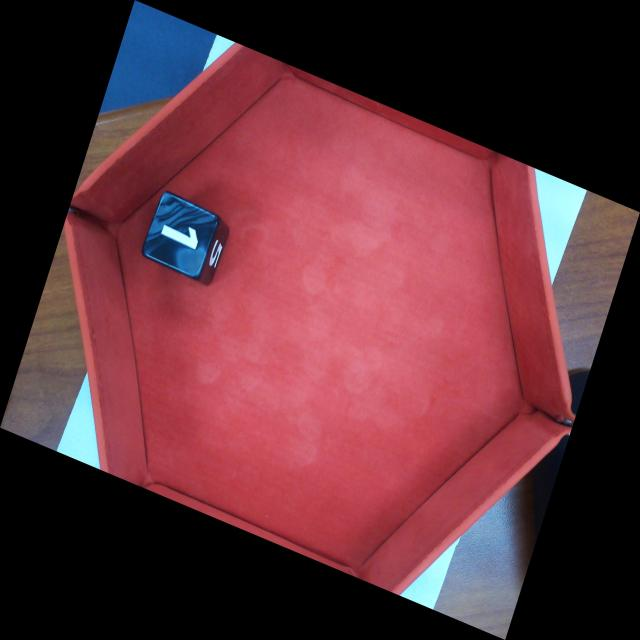dice: (140, 189, 221, 282)
